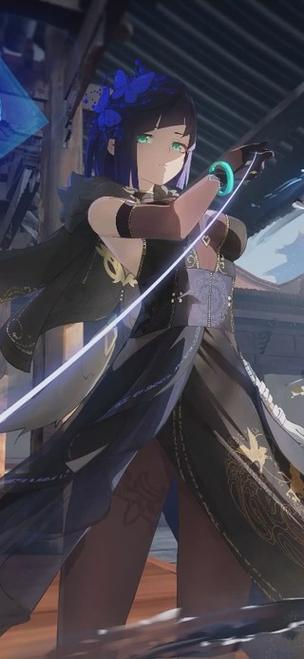夜兰: (58, 63, 304, 659)
